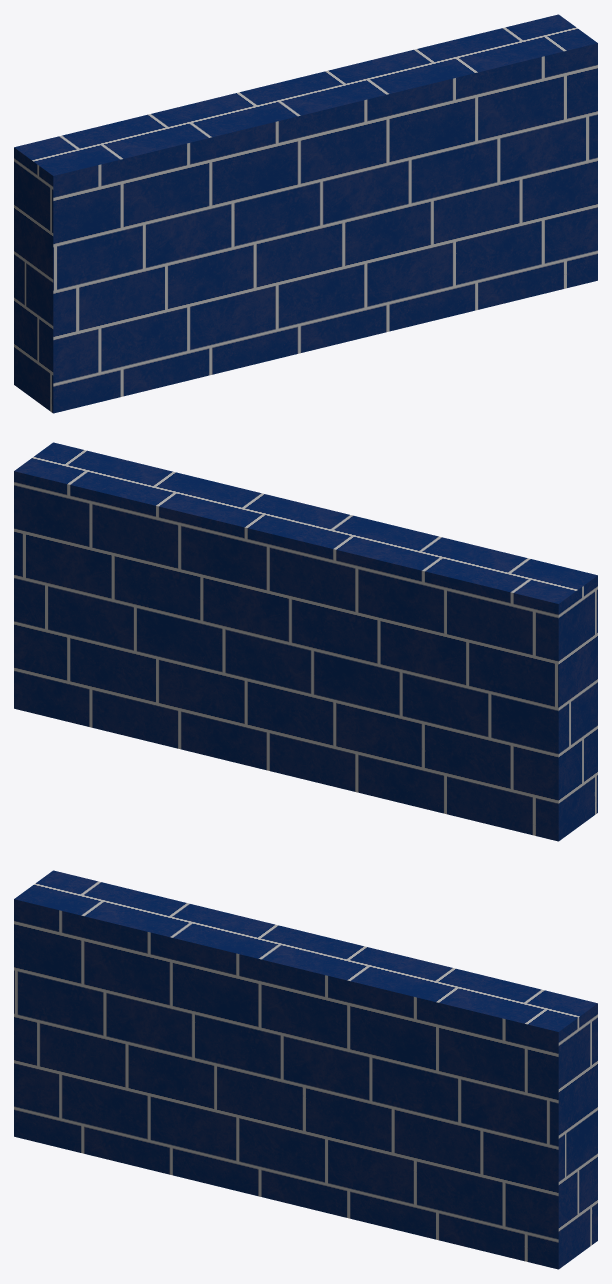
Rendered from wall01.fbx.
3 renders of one model, top to bottom at view 1: azimuth 30°, elevation 25°; view 2: azimuth 150°, elevation 25°; view 3: azimuth 330°, elevation 25°, orthographic.
Parts seen in each view (by area): view 1: wall01; view 2: wall01; view 3: wall01.
Boxes of the visible parts, <box> form: wall01: <box>14,14,597,413</box>; wall01: <box>14,442,597,841</box>; wall01: <box>14,870,597,1269</box>.
Size of the model in its own units: 120 by 50 by 15.
